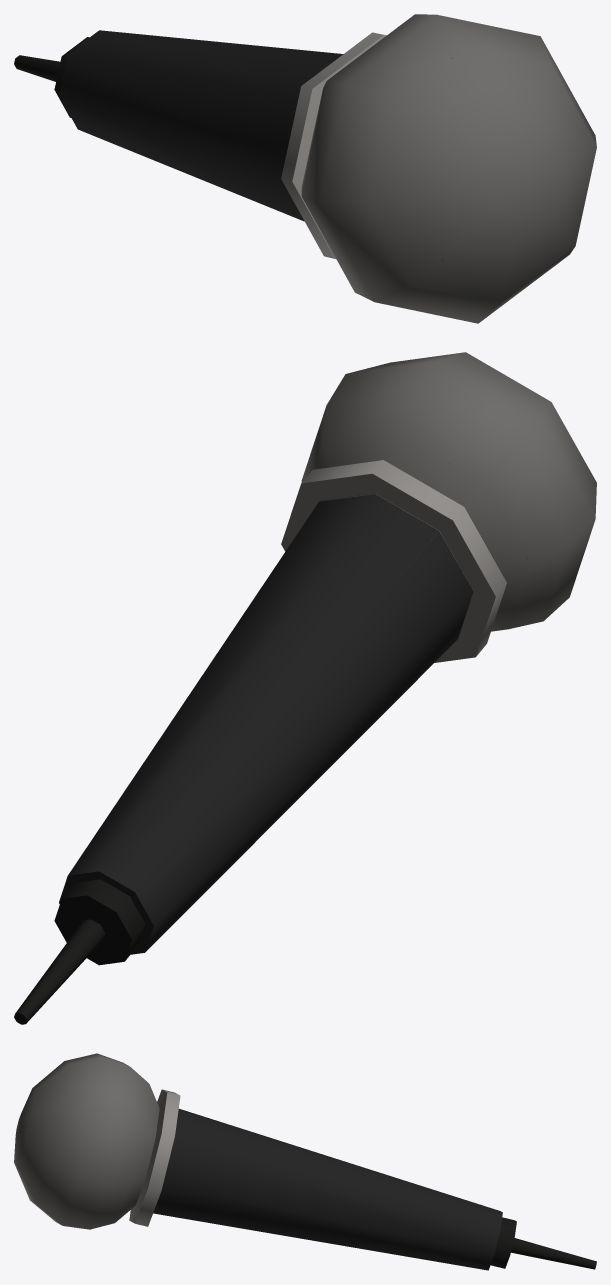
The model's file is microfone2.fbx.
3 renders of one model, top to bottom at view 1: azimuth 30°, elevation 25°; view 2: azimuth 150°, elevation 25°; view 3: azimuth 270°, elevation 25°, orthographic. The views are drawn at different scales.
Parts seen in each view (by area): view 1: microfone.001; view 2: microfone.001; view 3: microfone.001.
Boxes of the visible parts, <box> form: microfone.001: <box>14,14,596,323</box>; microfone.001: <box>14,352,596,1024</box>; microfone.001: <box>14,1053,596,1270</box>.
Bounding box in the file's own units: 91.03 × 113 × 282.
